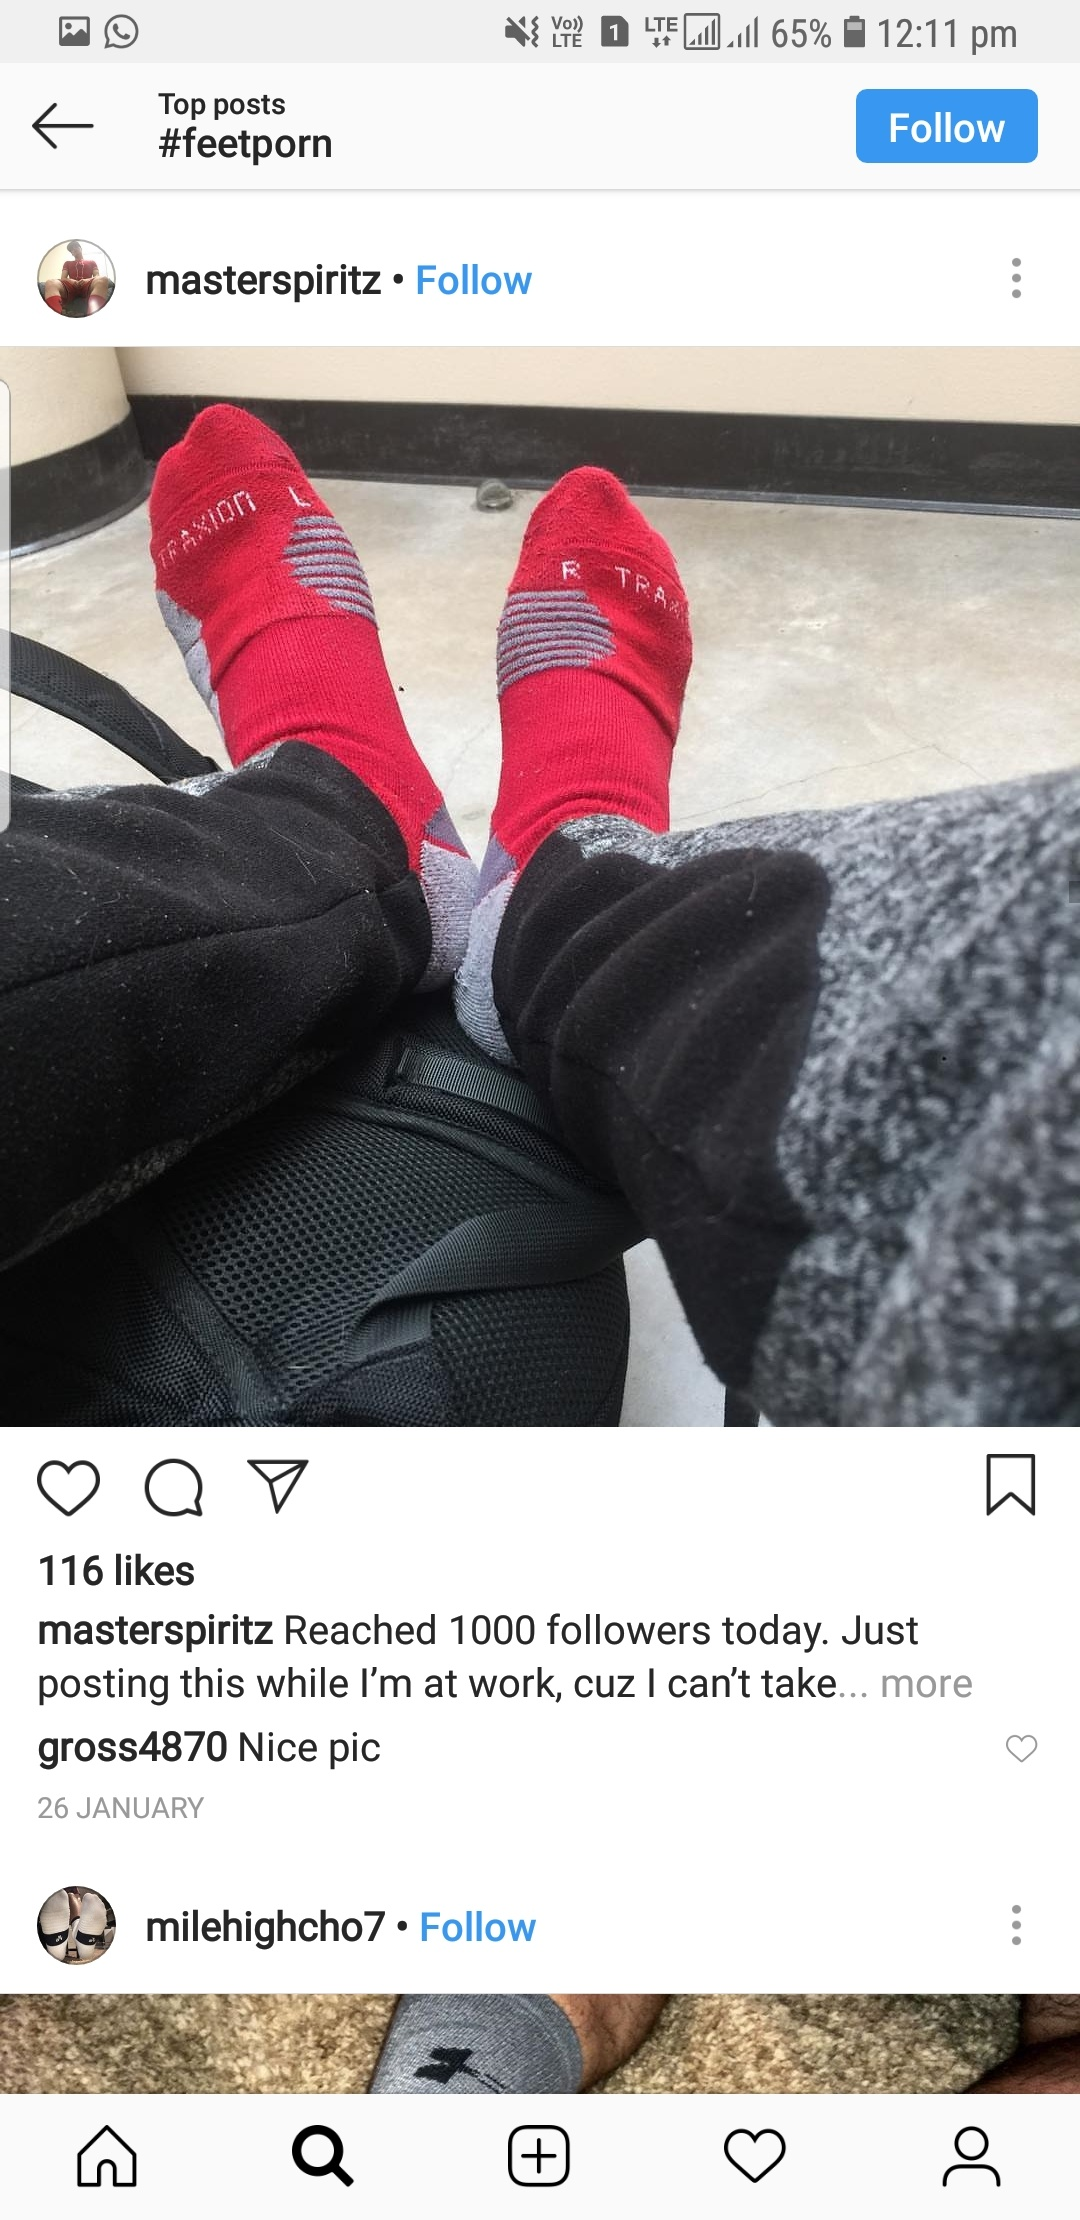feet: (113, 379, 449, 950), (510, 422, 706, 980)
